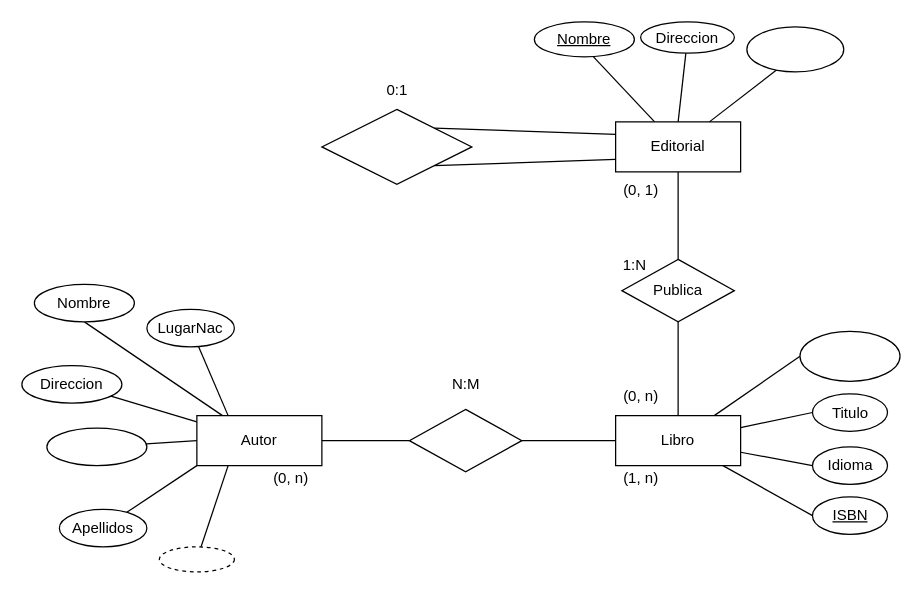
Image size: 923x594. Some labels were removed from this diagram. The shapes that lost their labels are listed below. From the top down, each one's centre as x and y in pixels, then its label:
At point 795,49: ".Telefono".
At point 396,146: "Pertenece a".
At point 849,355: "Año de publicacion".
At point 96,446: "FechaNac".
At point 465,440: "Escribe".
At point 196,559: "Edad".
